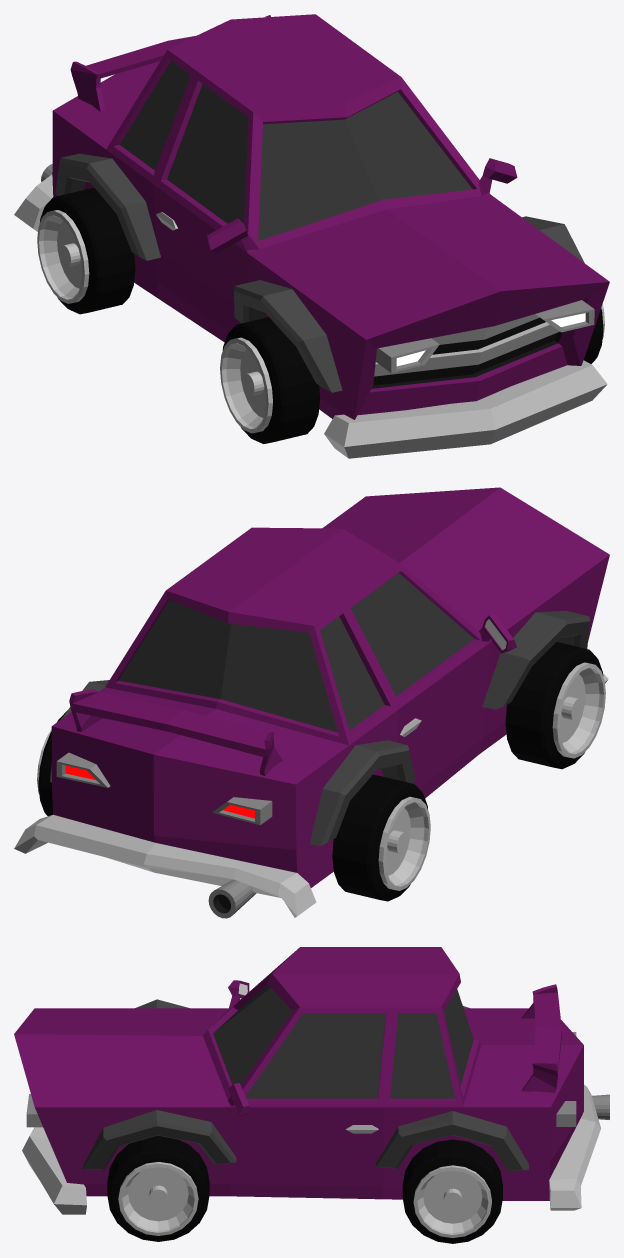
The model's file is low_poly_car.glb.
The picture shows the model from 3 angles, top to bottom: view 1: azimuth 30°, elevation 25°; view 2: azimuth 150°, elevation 25°; view 3: azimuth 270°, elevation 25°; orthographic projection. The views are drawn at different scales.
Parts seen in each view (by area): view 1: LowPoly_car; view 2: LowPoly_car; view 3: LowPoly_car.
Part boxes in pixels (left/top/right/bottom): LowPoly_car: left=14, top=14, right=609, bottom=458; LowPoly_car: left=14, top=487, right=609, bottom=918; LowPoly_car: left=14, top=947, right=609, bottom=1243.
Bounding box in the file's own units: 554 × 381 × 1002.
